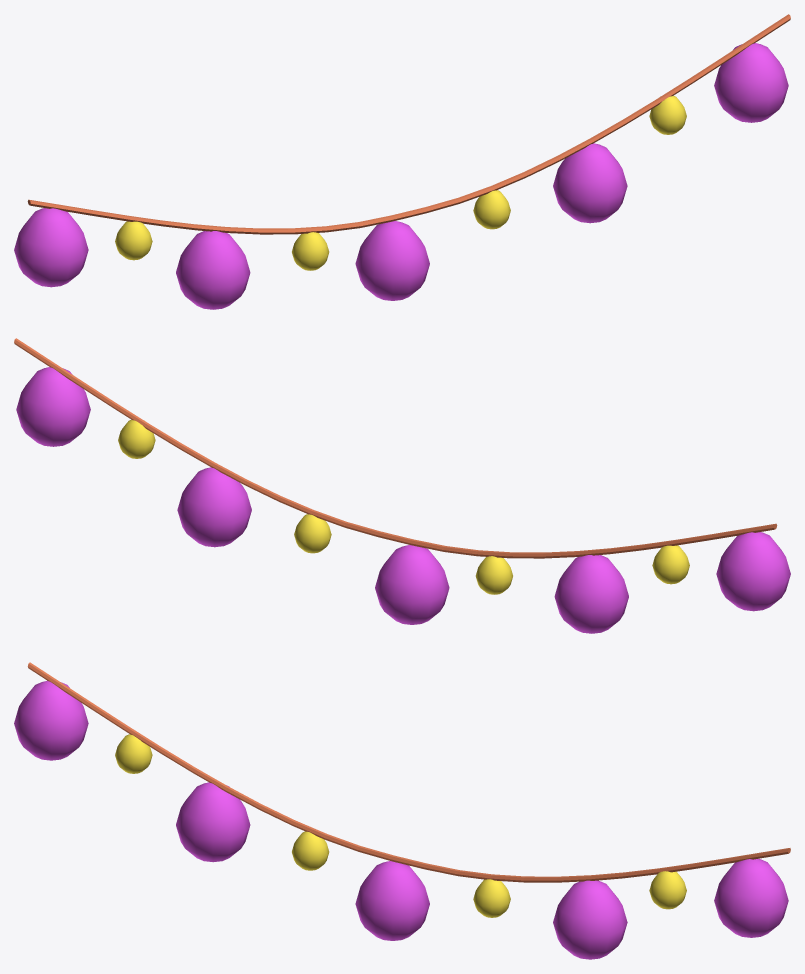
File: decor2.fbx
3 renders of one model, top to bottom at view 1: azimuth 30°, elevation 25°; view 2: azimuth 150°, elevation 25°; view 3: azimuth 330°, elevation 25°, orthographic.
Visible parts, largest first — view 1: Cylinder, Sphere.002, Sphere, Sphere.001, Sphere.003, Sphere.004, Sphere.005, Sphere.006, Sphere.007, Sphere.008; view 2: Cylinder, Sphere.002, Sphere, Sphere.001, Sphere.003, Sphere.004, Sphere.005, Sphere.006, Sphere.007, Sphere.008; view 3: Cylinder, Sphere.003, Sphere.002, Sphere.004, Sphere.001, Sphere, Sphere.007, Sphere.008, Sphere.006, Sphere.005.
Part boxes in pixels (x1=…): Cylinder: x1=27, y1=14, x2=790, y2=234; Sphere.002: x1=355, y1=221, x2=429, y2=300; Sphere: x1=14, y1=208, x2=88, y2=287; Sphere.001: x1=176, y1=231, x2=250, y2=309; Sphere.003: x1=553, y1=143, x2=627, y2=223; Sphere.004: x1=714, y1=43, x2=788, y2=122; Sphere.005: x1=115, y1=221, x2=152, y2=260; Sphere.006: x1=292, y1=232, x2=329, y2=270; Sphere.007: x1=473, y1=190, x2=510, y2=229; Sphere.008: x1=649, y1=95, x2=686, y2=134; Cylinder: x1=14, y1=338, x2=777, y2=558; Sphere.002: x1=375, y1=545, x2=449, y2=624; Sphere: x1=716, y1=532, x2=790, y2=611; Sphere.001: x1=554, y1=555, x2=628, y2=633; Sphere.003: x1=177, y1=467, x2=251, y2=547; Sphere.004: x1=16, y1=367, x2=90, y2=446; Sphere.005: x1=652, y1=545, x2=689, y2=584; Sphere.006: x1=475, y1=556, x2=512, y2=594; Sphere.007: x1=294, y1=514, x2=331, y2=553; Sphere.008: x1=118, y1=419, x2=155, y2=458; Cylinder: x1=27, y1=662, x2=790, y2=882; Sphere.003: x1=553, y1=880, x2=627, y2=959; Sphere.002: x1=355, y1=861, x2=429, y2=940; Sphere.004: x1=714, y1=858, x2=788, y2=937; Sphere.001: x1=176, y1=782, x2=250, y2=862; Sphere: x1=14, y1=680, x2=88, y2=760; Sphere.007: x1=473, y1=879, x2=510, y2=917; Sphere.008: x1=649, y1=871, x2=686, y2=909; Sphere.006: x1=292, y1=831, x2=329, y2=870; Sphere.005: x1=115, y1=734, x2=152, y2=773.
Size of the model in its own units: 2614 by 604 by 219.
